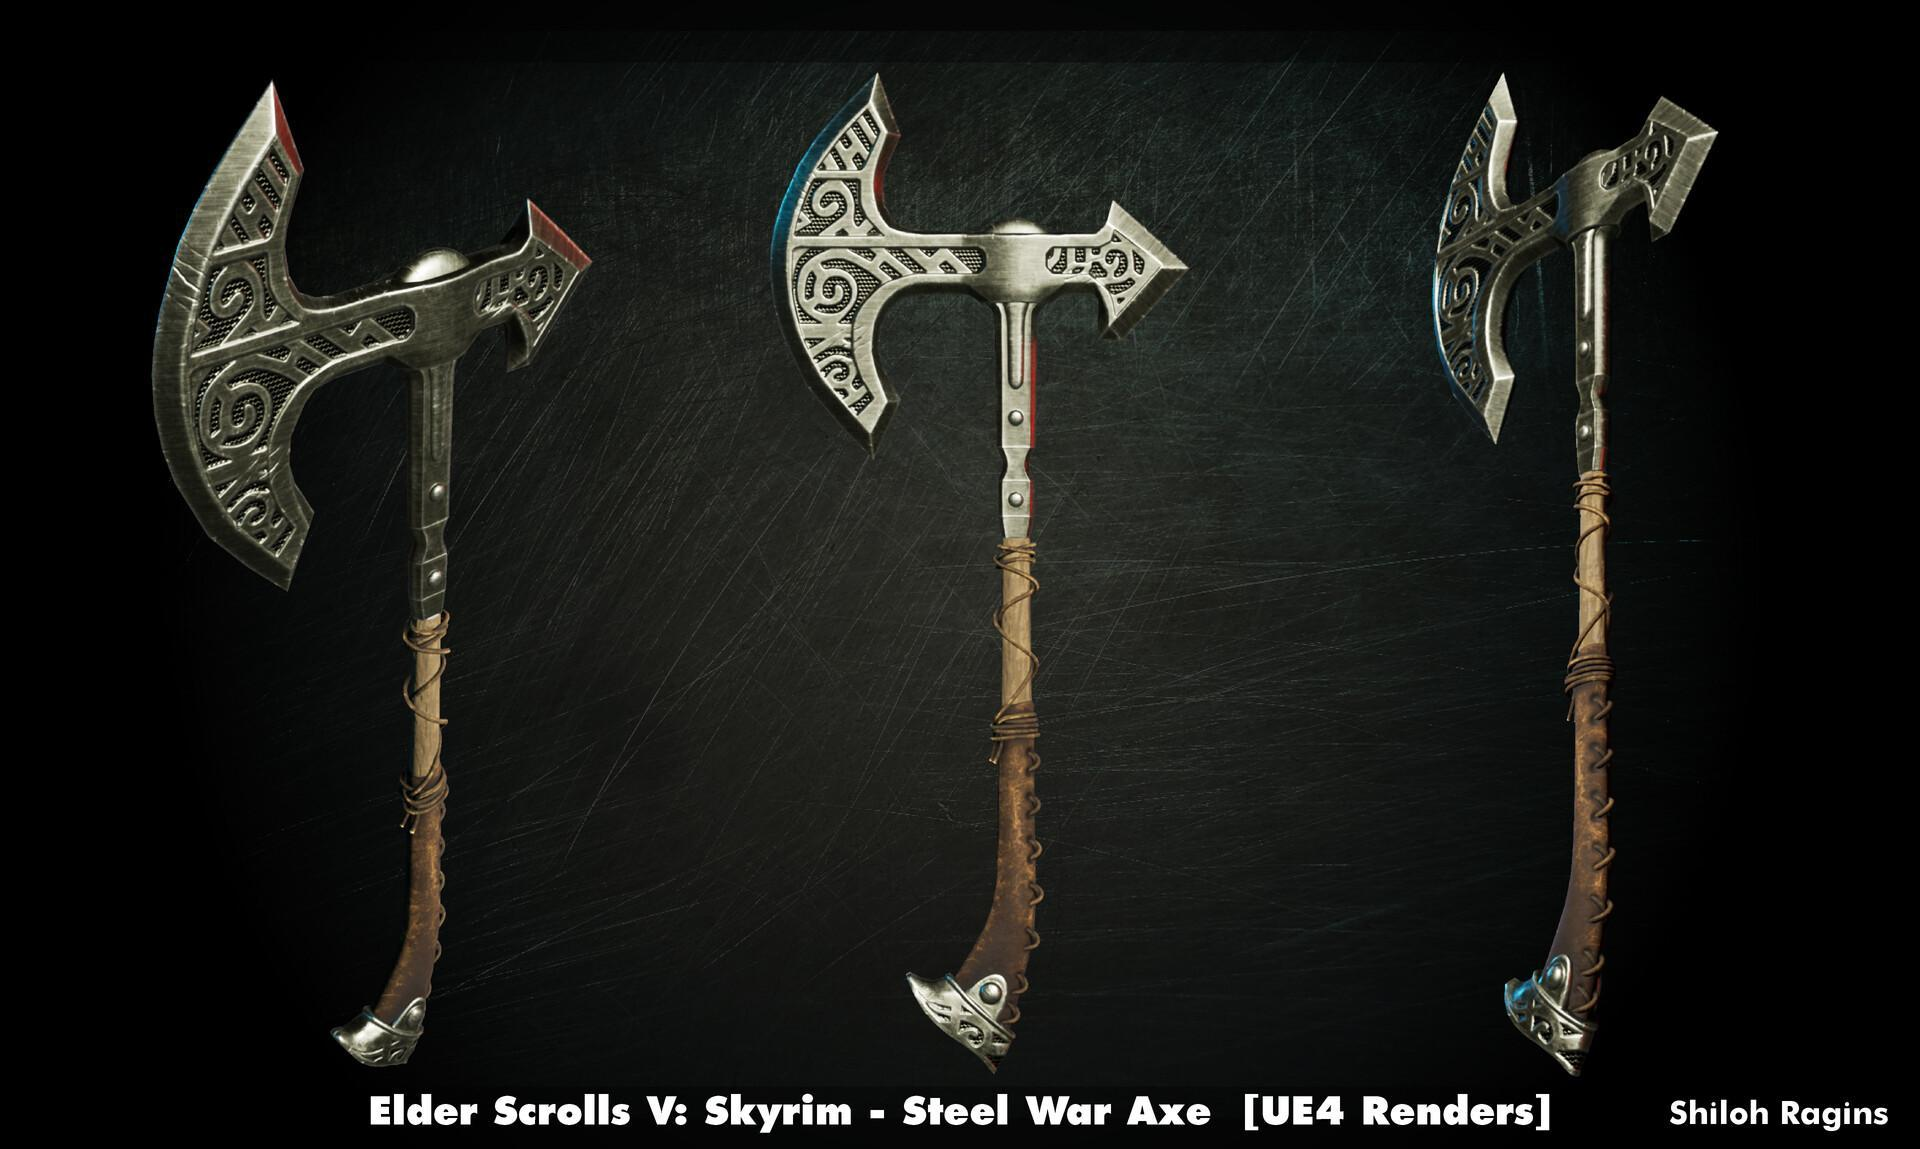machado: (155, 86, 589, 1066), (773, 77, 1186, 1068), (1433, 77, 1715, 1072)
